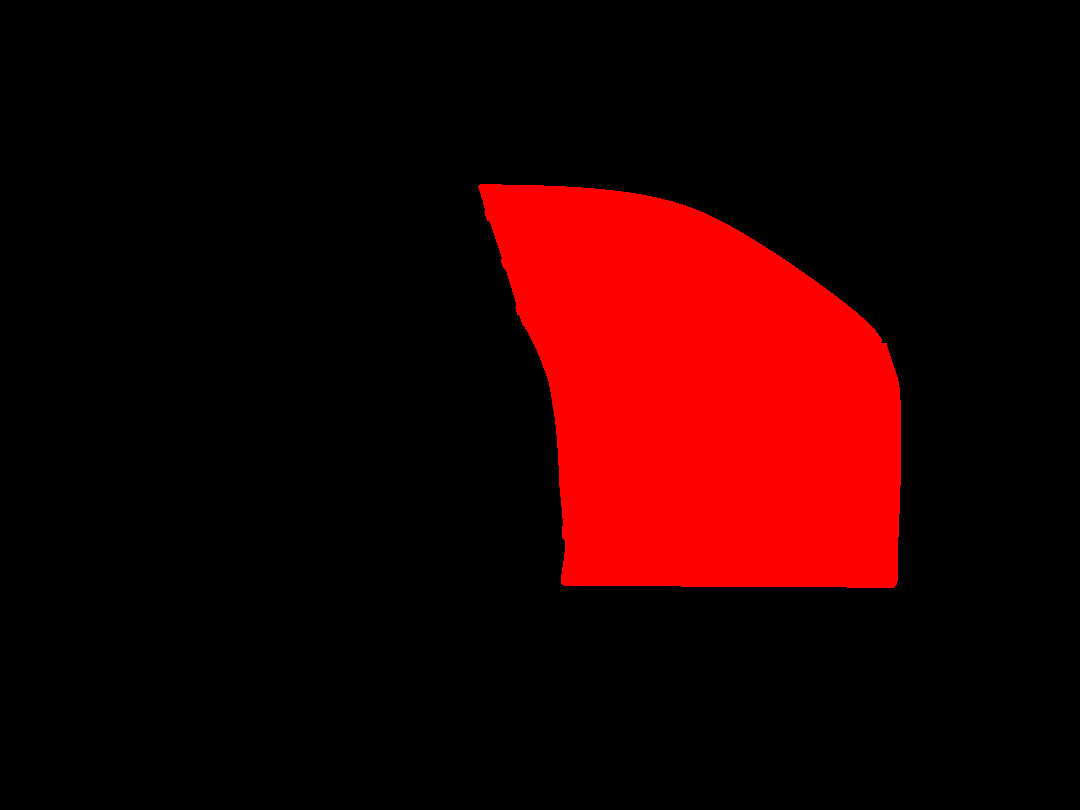car_door: (476, 180, 902, 587)
